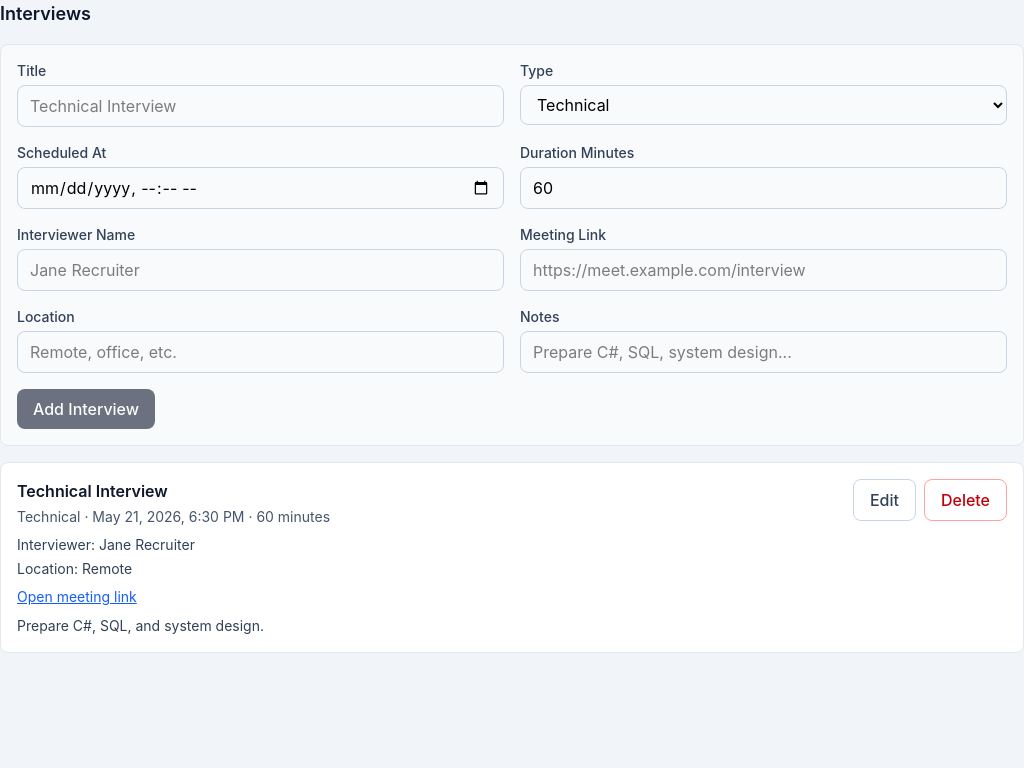
Test case: InterviewsSection › opens confirmation dialog before deleting an interview
The width and height of the screenshot is (1024, 768).
Expected: the heading "Technical Interview" is shown, 17,481 -> 168,501
Click the button "Delete" at (965, 500), box 924,479 -> 1007,521
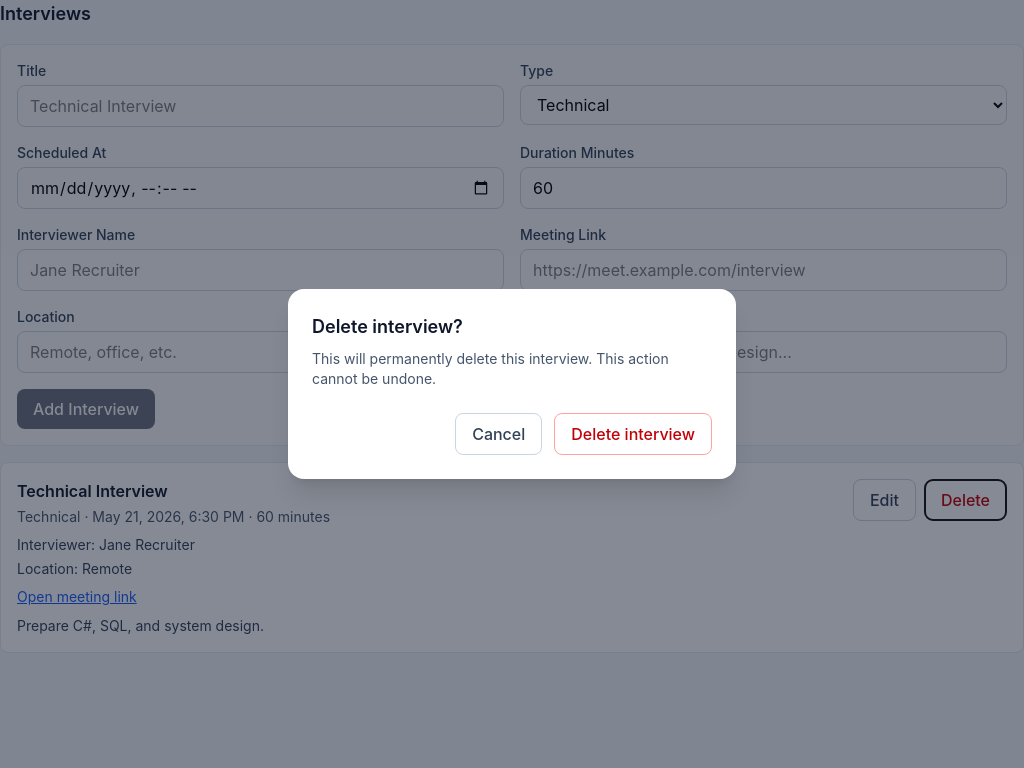
Result: the heading "Delete interview?" is shown at 312,316 -> 463,337
Result: the text "This will permanently delete this interview" is shown at 312,350 -> 669,387
